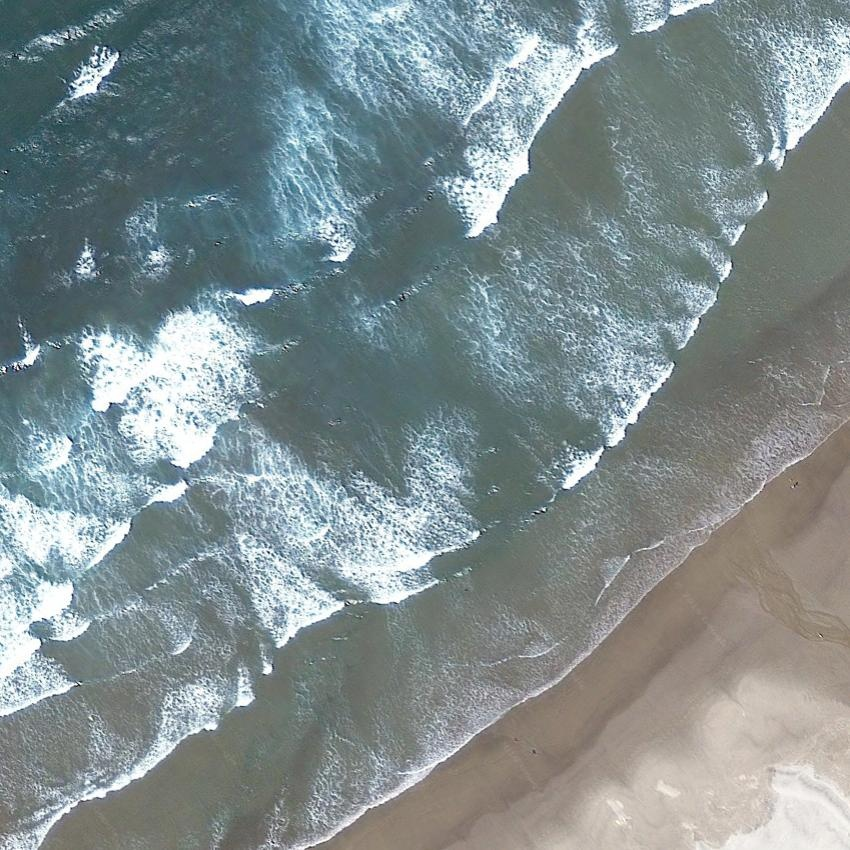rip_current: (198, 175, 517, 520)
